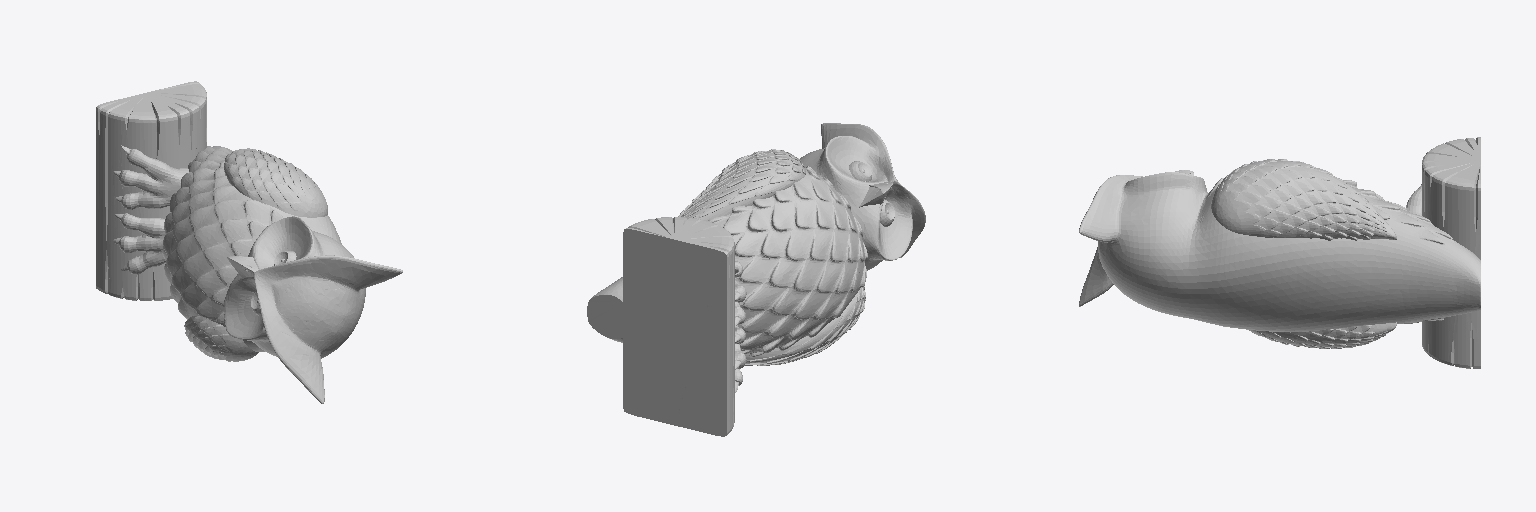
File: owl_statue.obj
3 renders of one model, left to right at view 1: azimuth 30°, elevation 25°; view 2: azimuth 150°, elevation 25°; view 3: azimuth 270°, elevation 25°, orthographic.
Visible parts, largest first — view 1: Owl_Statue_Owl_Statue.001; view 2: Owl_Statue_Owl_Statue.001; view 3: Owl_Statue_Owl_Statue.001.
Part boxes in pixels (left/top/right/bottom): Owl_Statue_Owl_Statue.001: left=96, top=81, right=402, bottom=403; Owl_Statue_Owl_Statue.001: left=587, top=123, right=925, bottom=436; Owl_Statue_Owl_Statue.001: left=1079, top=137, right=1480, bottom=368.
Size of the model in its own units: 6.9 by 7.74 by 15.